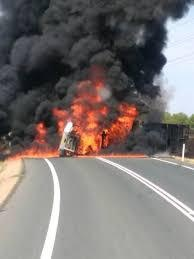fire: (10, 79, 143, 157)
